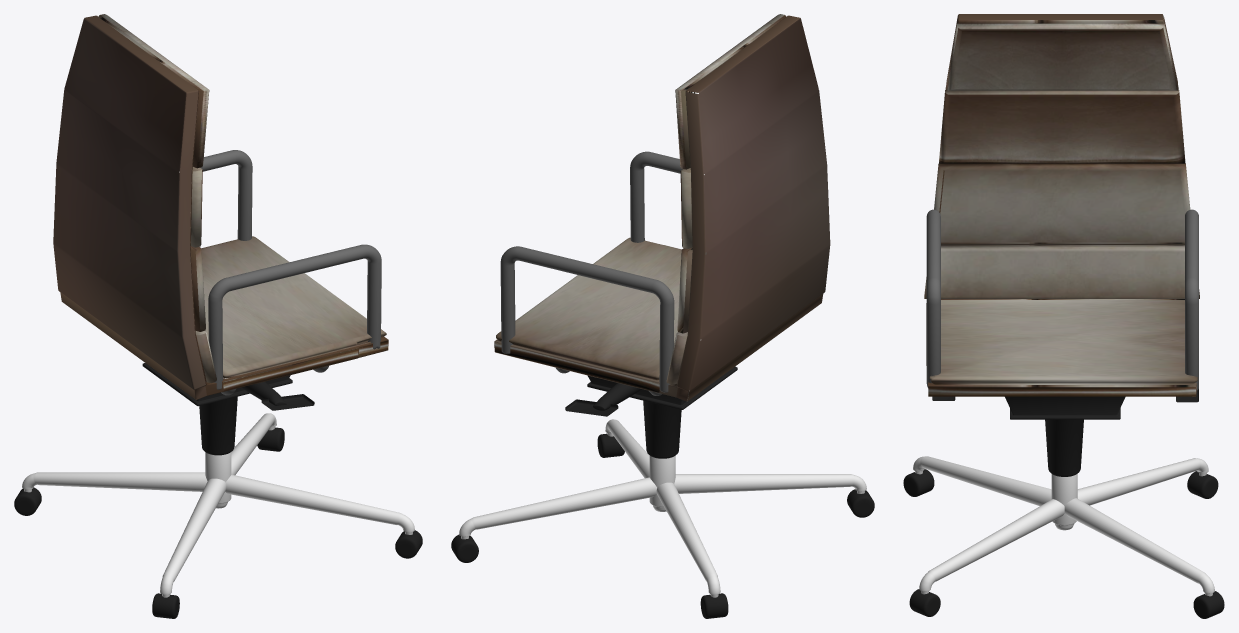
Rendered from chair_01.fbx.
The picture shows the model from 3 angles, left to right: view 1: azimuth 30°, elevation 25°; view 2: azimuth 150°, elevation 25°; view 3: azimuth 270°, elevation 25°; orthographic projection.
Visible parts, largest first — view 1: Cube, Cylinder, Cylinder.002, Cube.001; view 2: Cube, Cylinder, Cylinder.002, Cube.001; view 3: Cube, Cylinder, Cube.001, Cylinder.002.
Part boxes in pixels (x1,y1,x2,y2): Cube: [53, 14, 388, 399]; Cylinder: [14, 413, 422, 618]; Cylinder.002: [201, 150, 381, 389]; Cube.001: [142, 363, 314, 455]; Cube: [494, 14, 830, 401]; Cylinder: [451, 419, 874, 618]; Cylinder.002: [500, 151, 682, 392]; Cube.001: [565, 366, 737, 458]; Cube: [924, 14, 1199, 396]; Cylinder: [903, 456, 1224, 618]; Cube.001: [932, 389, 1198, 476]; Cylinder.002: [926, 209, 1198, 390].
Bounding box in the file's own units: 234 × 405 × 236.
Materials: 5 (1 with a texture image).
